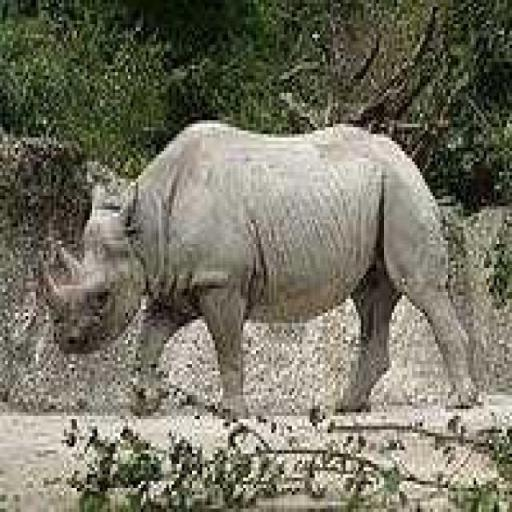Rhino: (36, 117, 478, 419)
